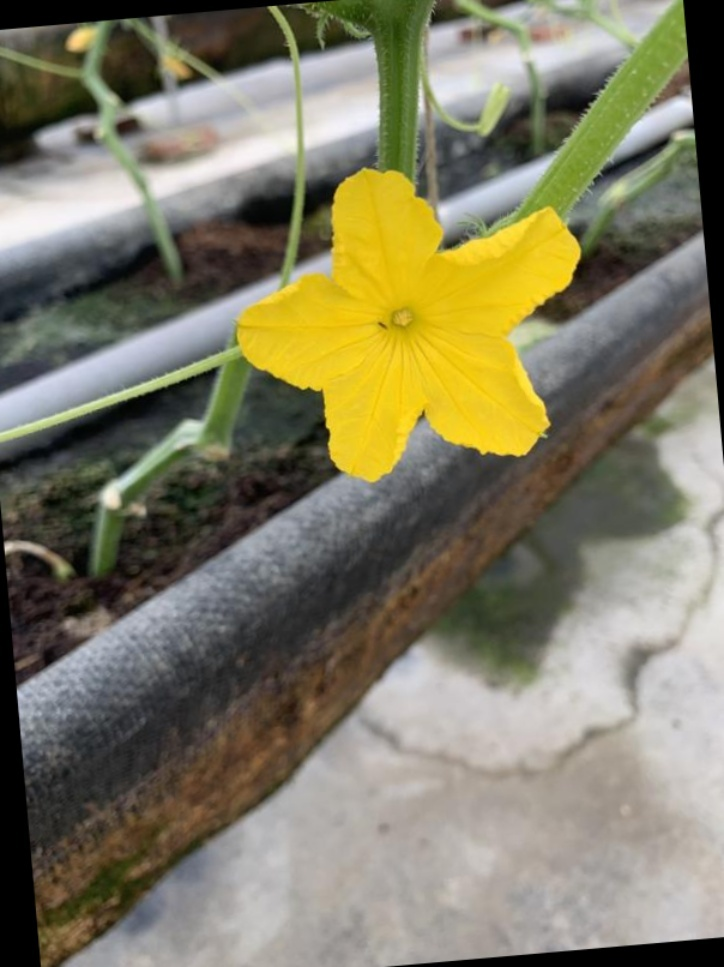flowering: (228, 152, 588, 488)
